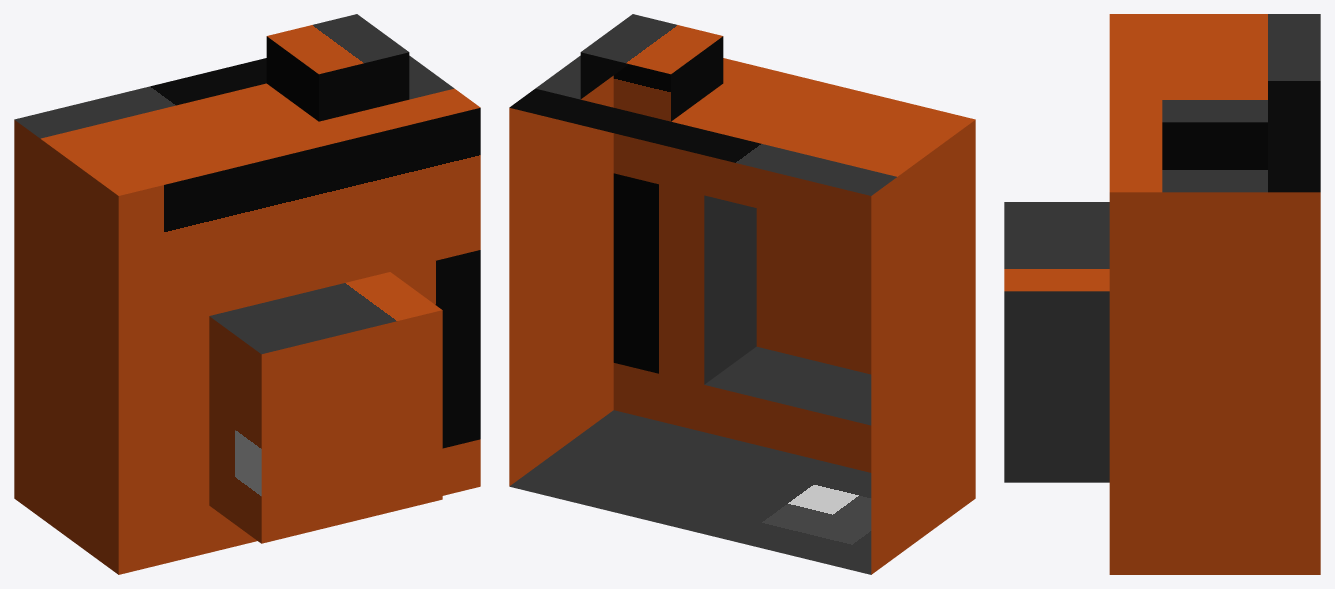
Rendered from share.fbx.
3 views of the same model, side by side, from view 1: azimuth 30°, elevation 25°; view 2: azimuth 150°, elevation 25°; view 3: azimuth 270°, elevation 25° (orthographic).
Parts seen in each view (by area): view 1: Matrix_35; view 2: Matrix_35; view 3: Matrix_35.
Part boxes in pixels (left/top/right/bottom): Matrix_35: left=14, top=14, right=480, bottom=574; Matrix_35: left=509, top=14, right=975, bottom=574; Matrix_35: left=1004, top=14, right=1320, bottom=574.
Bounding box in the file's own units: 8 × 9 × 6.
